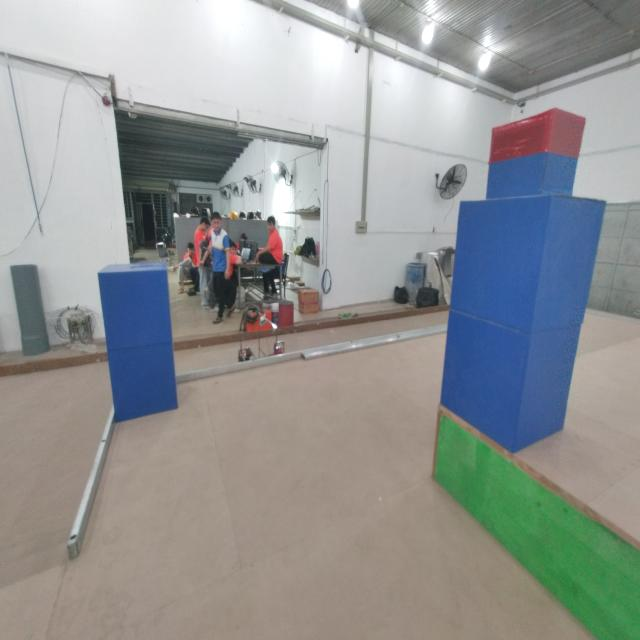earth_block: (445, 198, 613, 326), (430, 322, 589, 452), (96, 263, 171, 346), (104, 345, 179, 425)
sky_block: (482, 106, 589, 197)
